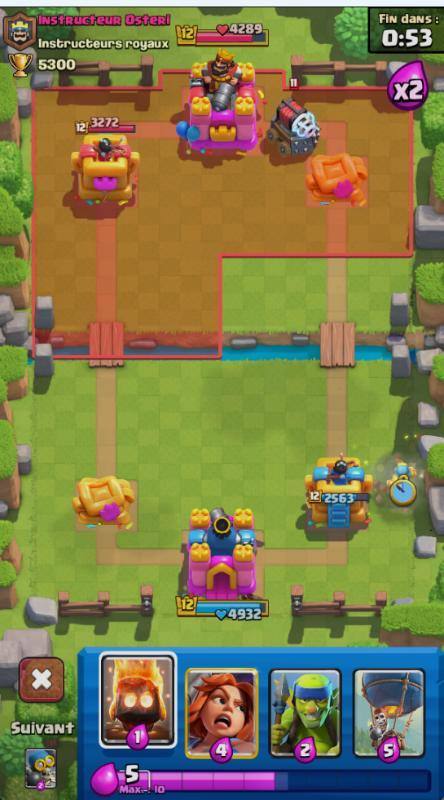enemy_sparky: (262, 92, 325, 159)
player_wizard: (377, 450, 427, 504)
